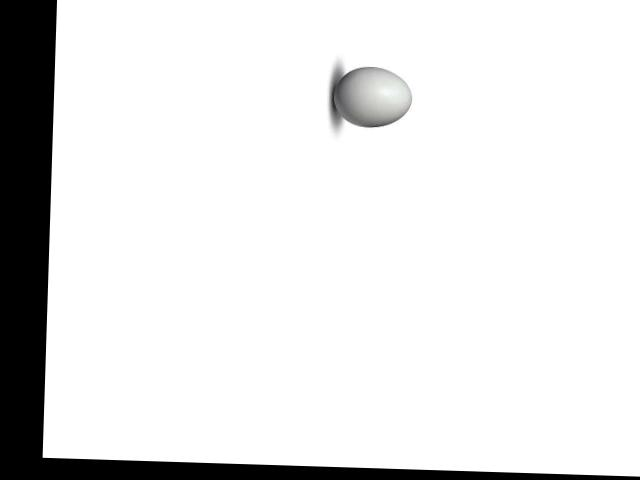egg: (333, 65, 413, 127)
